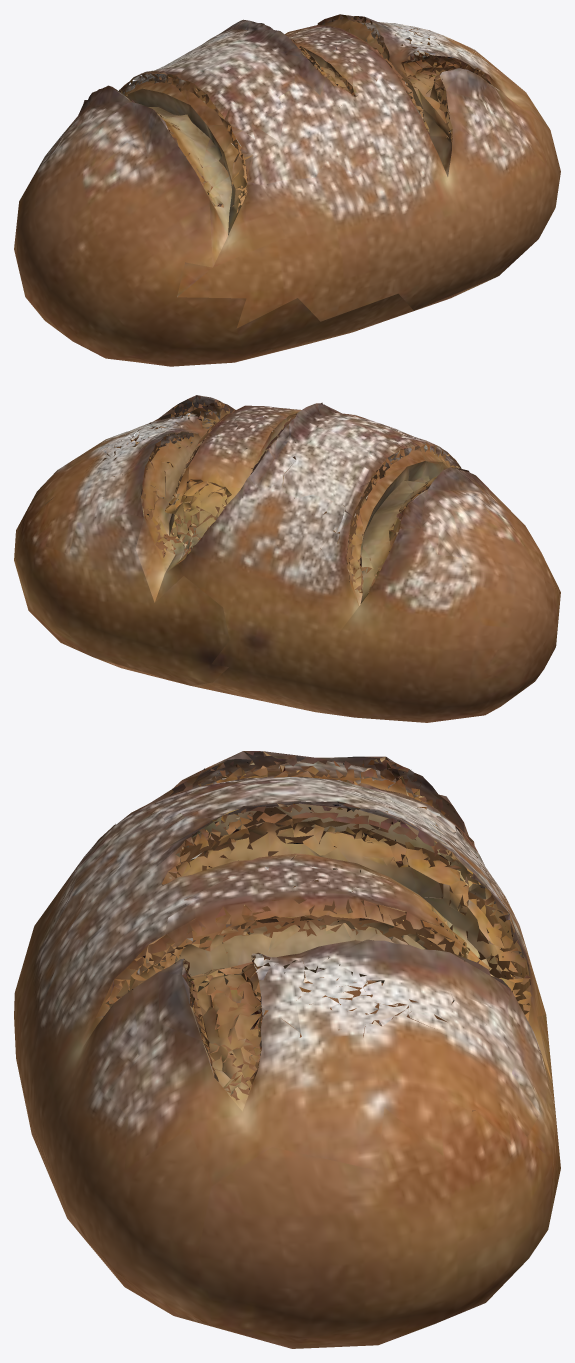
Rendered from pan.glb.
The picture shows the model from 3 angles, top to bottom: view 1: azimuth 30°, elevation 25°; view 2: azimuth 150°, elevation 25°; view 3: azimuth 270°, elevation 25°; orthographic projection. The views are drawn at different scales.
Visible parts, largest first — view 1: objeto; view 2: objeto; view 3: objeto.
Part boxes in pixels (left/top/right/bottom): objeto: left=14, top=14, right=560, bottom=366; objeto: left=14, top=395, right=560, bottom=722; objeto: left=14, top=751, right=560, bottom=1348.
Size of the model in its own units: 1.1 by 0.5262 by 0.6667.
1 material, 1 textured.
